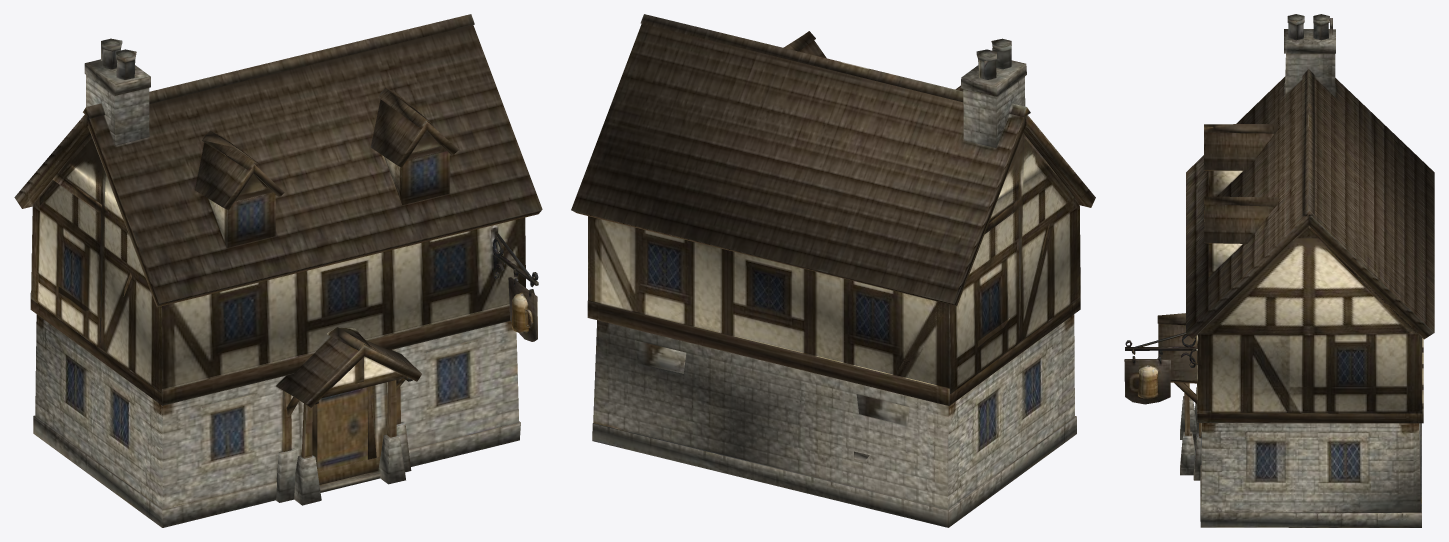
The model's file is building-inn.glb.
3 views of the same model, side by side, from view 1: azimuth 30°, elevation 25°; view 2: azimuth 150°, elevation 25°; view 3: azimuth 270°, elevation 25° (orthographic). The views are drawn at different scales.
Bounding box in the file's own units: 0.895 × 0.9526 × 0.7266.
1 material, 1 textured.
